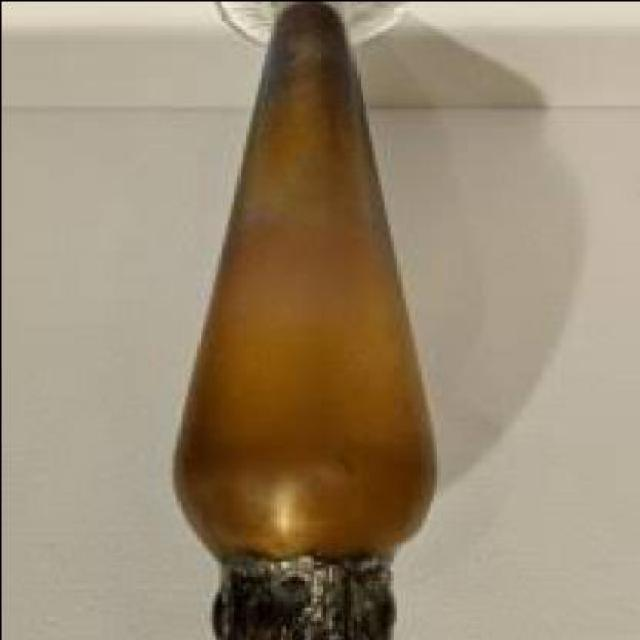glass: (165, 3, 432, 639)
